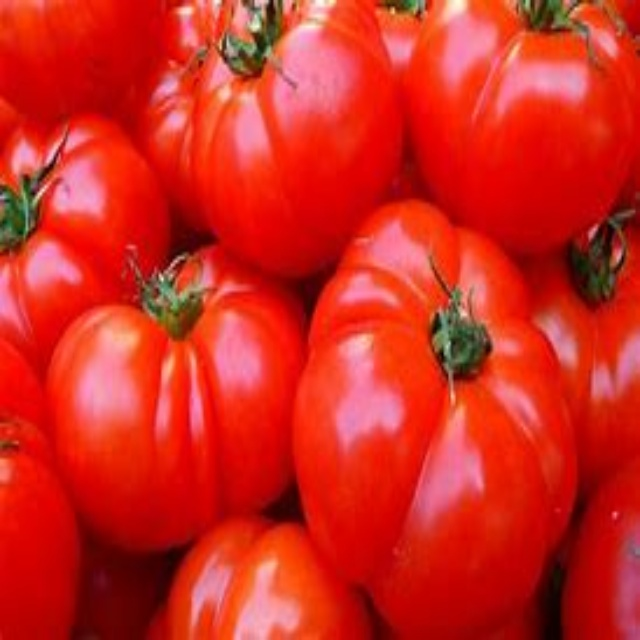tomato: (273, 209, 568, 622), (46, 264, 309, 531), (412, 7, 628, 250), (182, 23, 393, 266)
